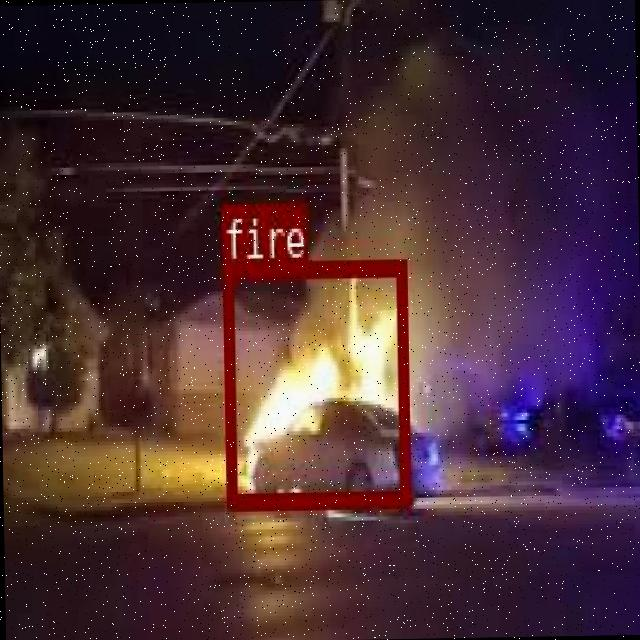fire: (220, 256, 408, 504)
